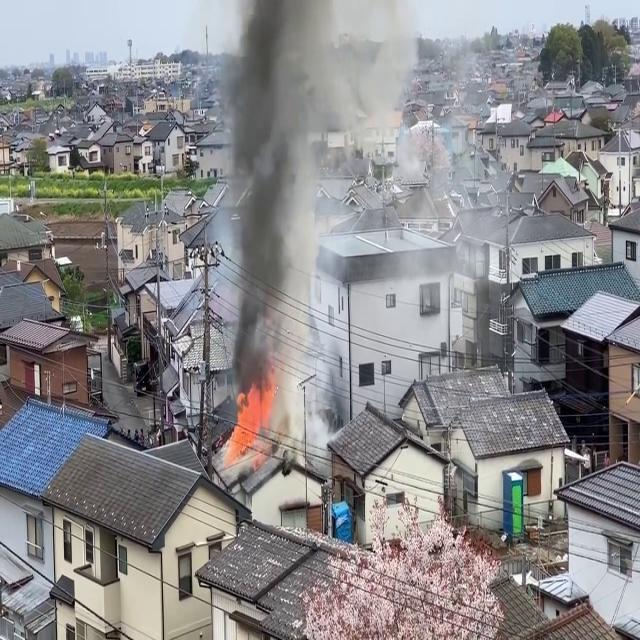Fire: (223, 380, 273, 465)
Smoke: (215, 1, 347, 440)
